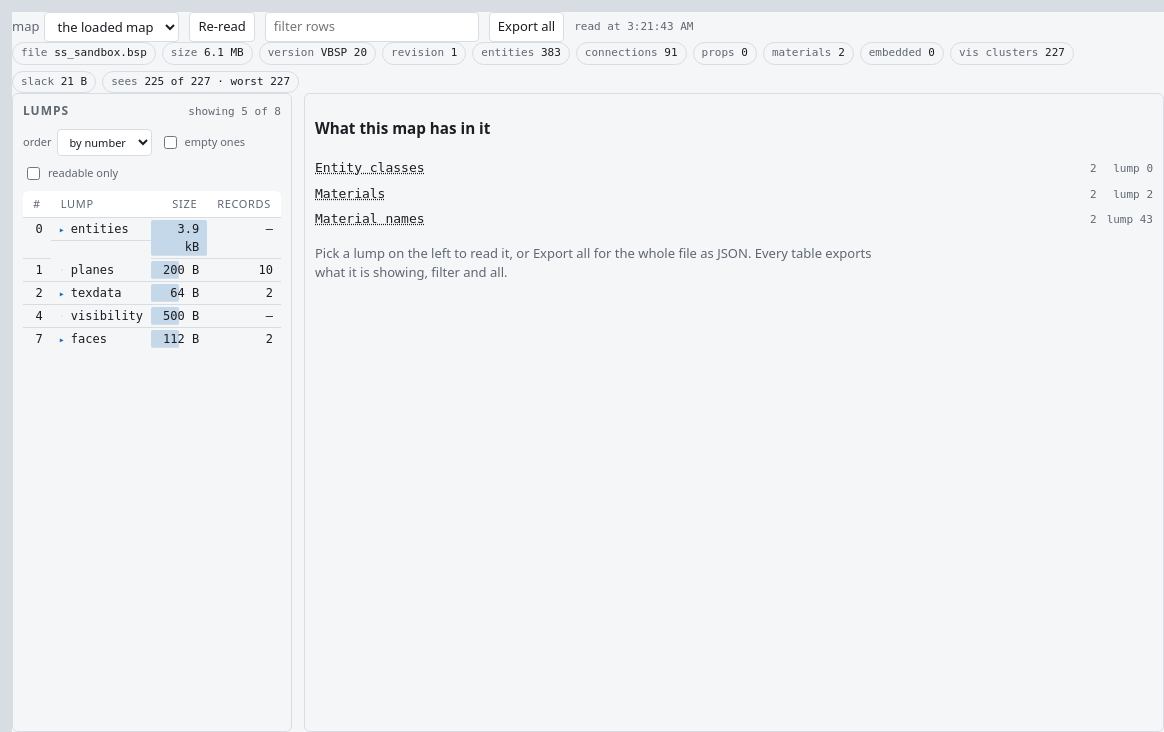
the lump table › keeps the two filters apart
This screenshot has width=1164, height=732.
Expected: the text "ss_sandbox.bsp" is shown, [54,46,147,59]
Click the checkbox labelled "readable only" at (34, 173), box [27,166,40,180]
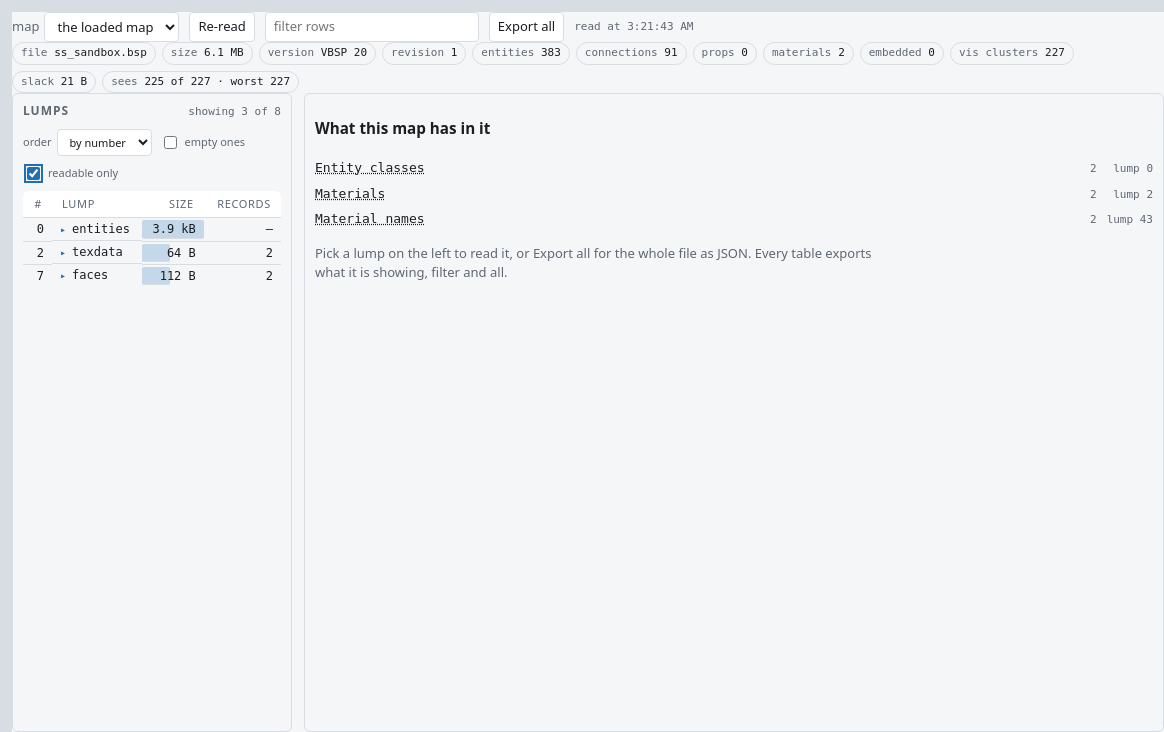
Click the checkbox labelled "empty ones" at (170, 142), box [164,136,176,148]
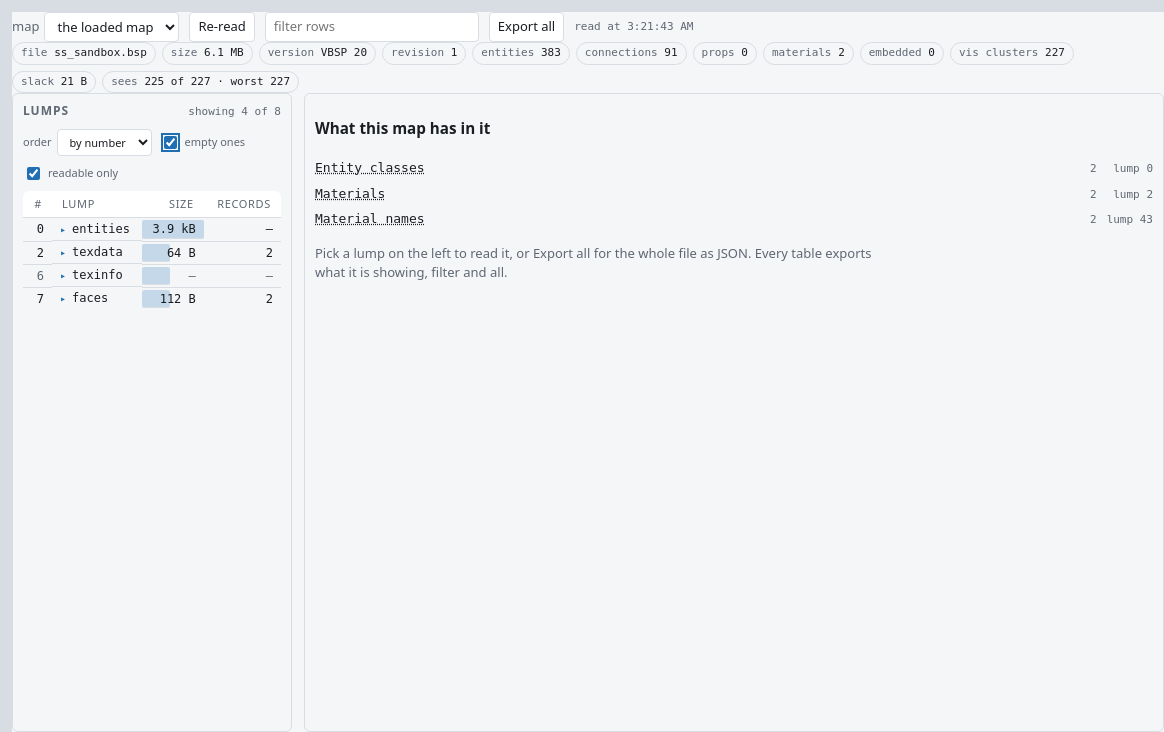
Expected: the cell "visibility" is not shown
Now the row "6 texinfo — —" is shown, box [23,264,281,287]
